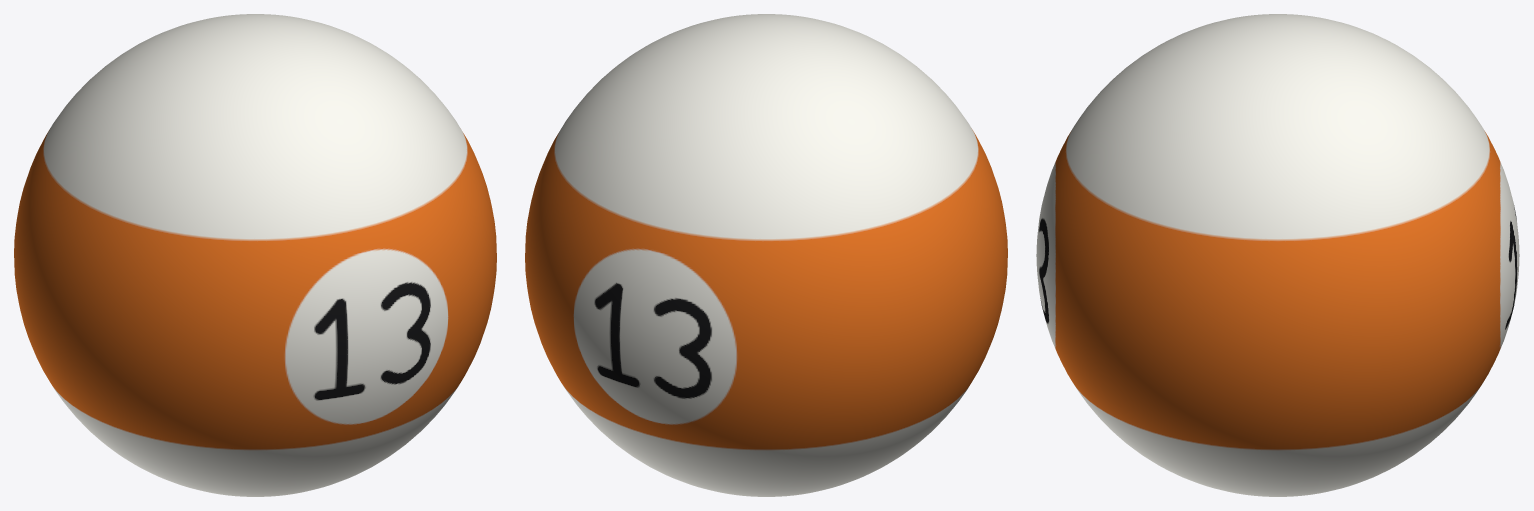
Rendered from ball-13.gltf.
3 views of the same model, side by side, from view 1: azimuth 30°, elevation 25°; view 2: azimuth 150°, elevation 25°; view 3: azimuth 270°, elevation 25° (orthographic).
Visible parts, largest first — view 1: Ball_13; view 2: Ball_13; view 3: Ball_13.
Boxes of the visible parts, x1=… form: Ball_13: x1=14, y1=14, x2=496, y2=496; Ball_13: x1=525, y1=14, x2=1007, y2=496; Ball_13: x1=1036, y1=14, x2=1519, y2=496.
Size of the model in its own units: 0.1 by 0.1 by 0.1.
1 material, 1 textured.
